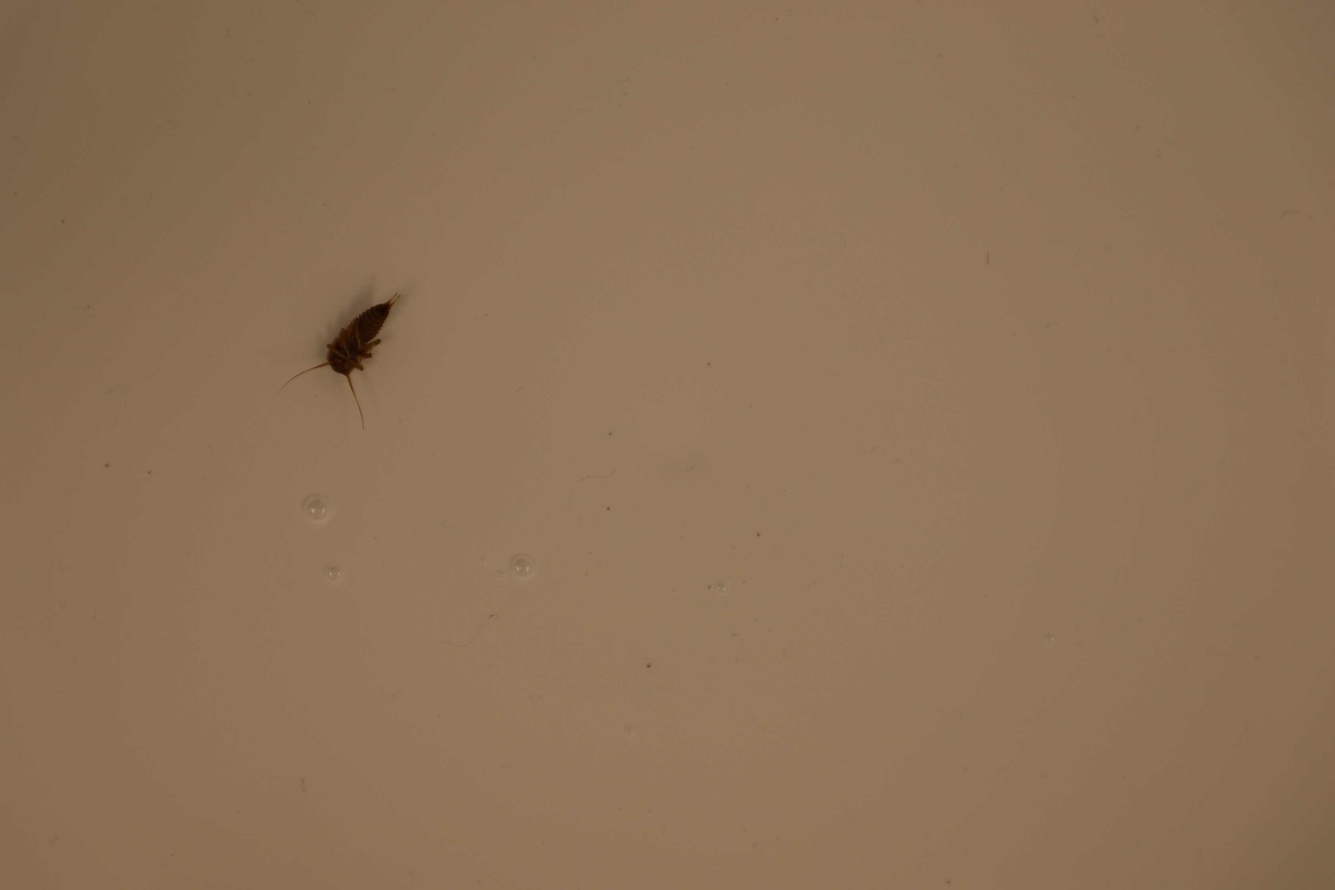Stonefly: (281, 289, 409, 428)
